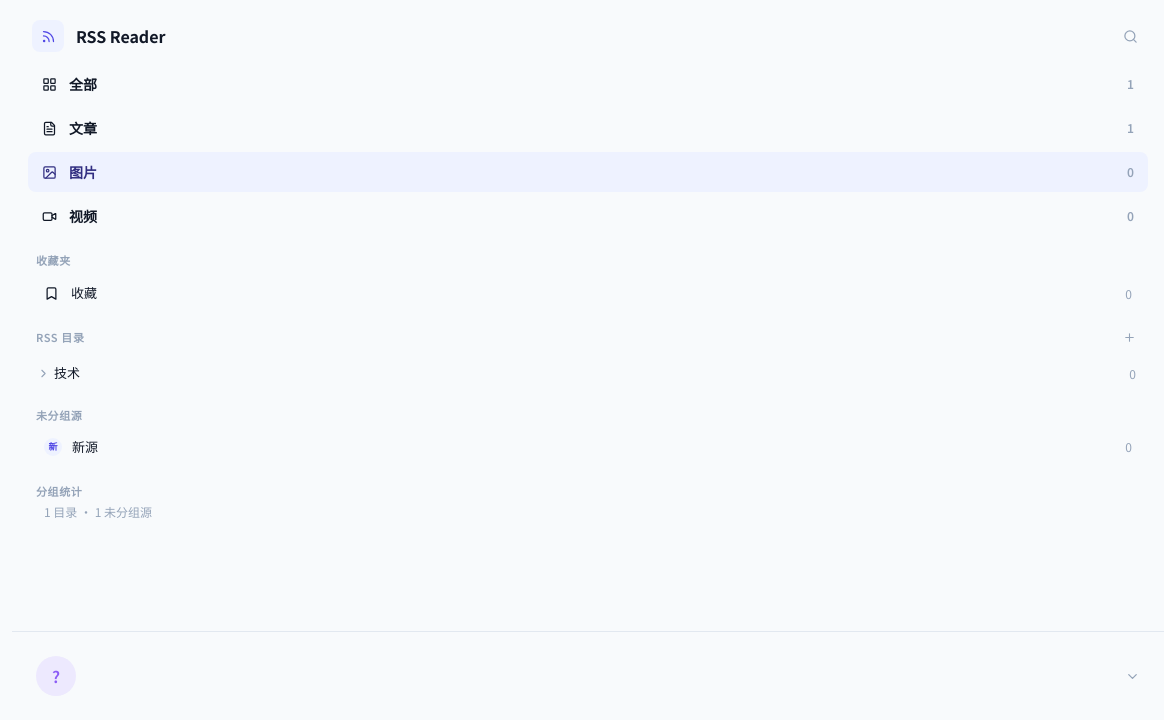
Sidebar 点击源 › 图片类型下点源：kind 保留（叠加关系）
Click the text "新源".
click(85, 446)  # box [72,437,98,456]
(page scrolled)
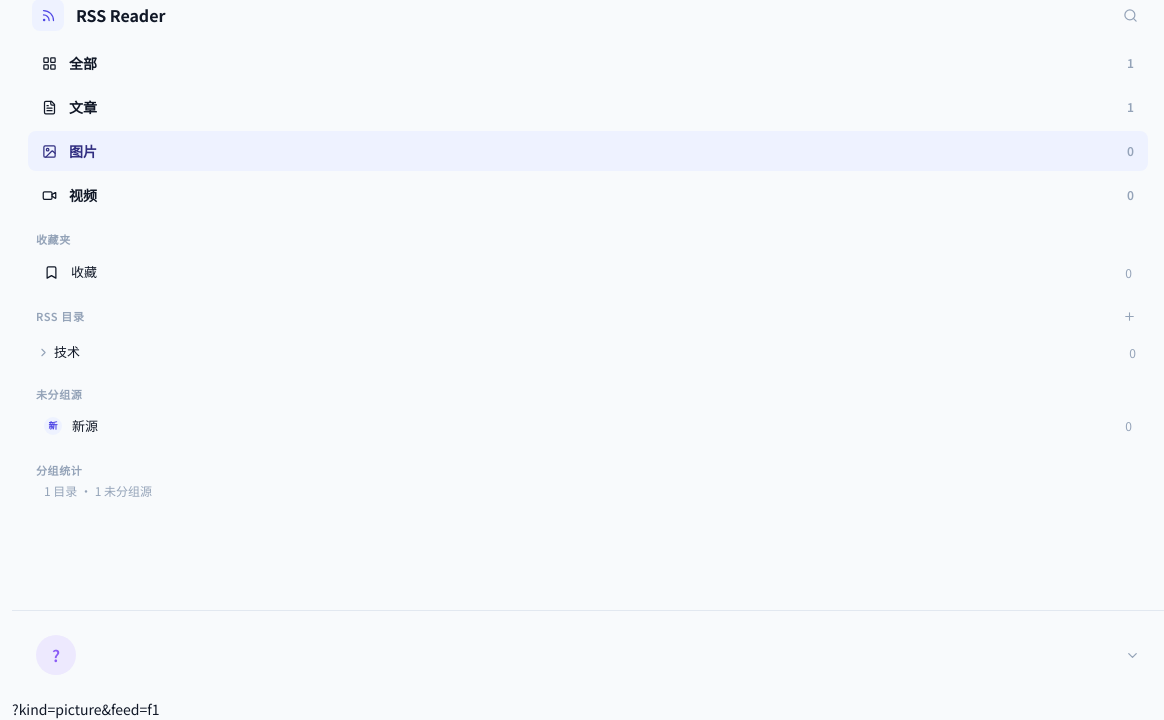
expect the text with test id "query" reads "?kind=picture&feed=f1": met, box [12,699,160,719]
